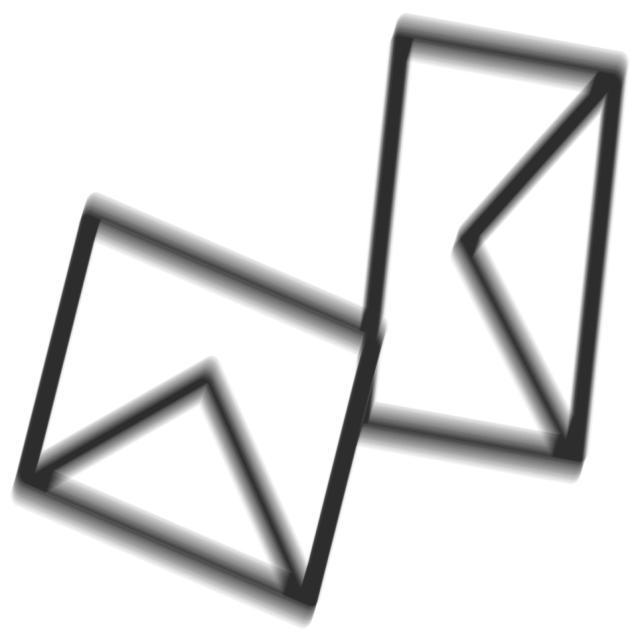letter: (7, 195, 390, 633), (325, 14, 637, 493)
